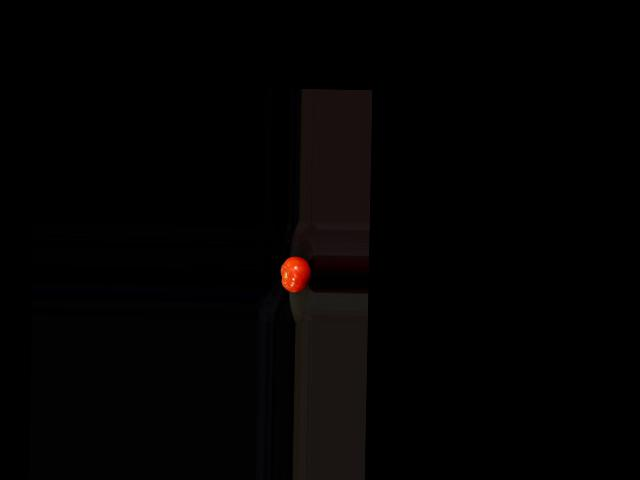tomato: (280, 255, 311, 292)
